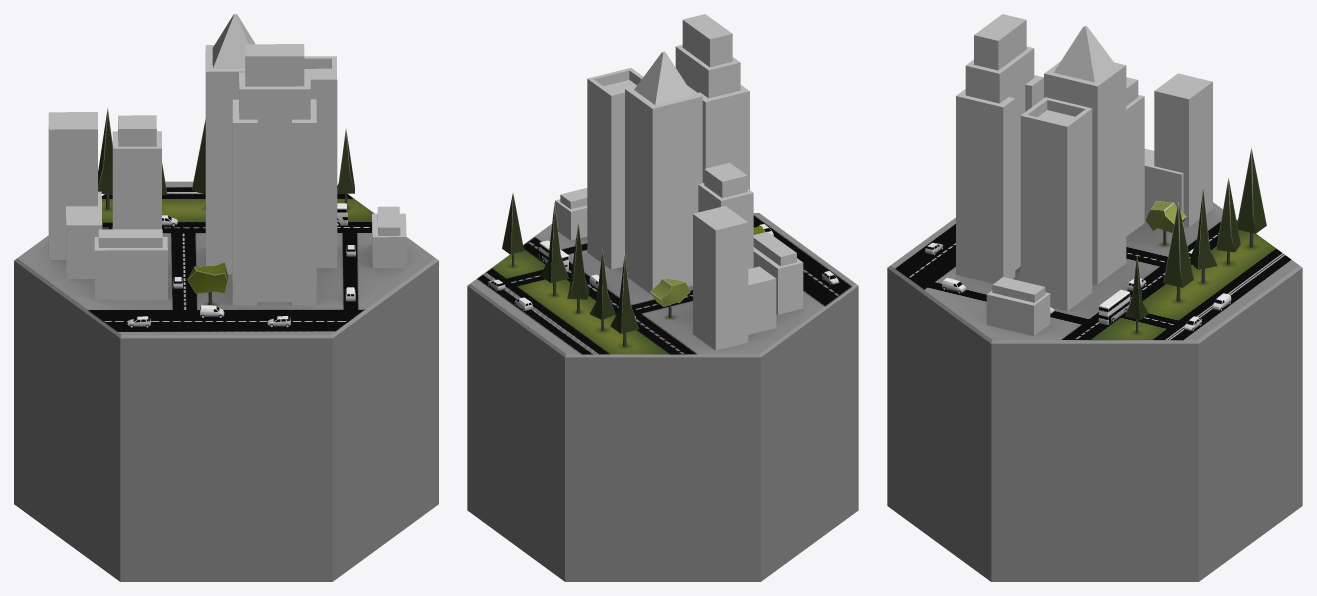
File: Tile_City01.fbx
3 views of the same model, side by side, from view 1: azimuth 30°, elevation 25°; view 2: azimuth 150°, elevation 25°; view 3: azimuth 270°, elevation 25° (orthographic). The views are drawn at different scales.
Visible parts, largest first — view 1: City01; view 2: City01; view 3: City01.
Boxes of the visible parts, left/top/right/bottom form: City01: left=14, top=14, right=438, bottom=581; City01: left=467, top=14, right=858, bottom=581; City01: left=887, top=14, right=1302, bottom=581.
Bounding box in the file's own units: 1931 × 2850 × 2229.
